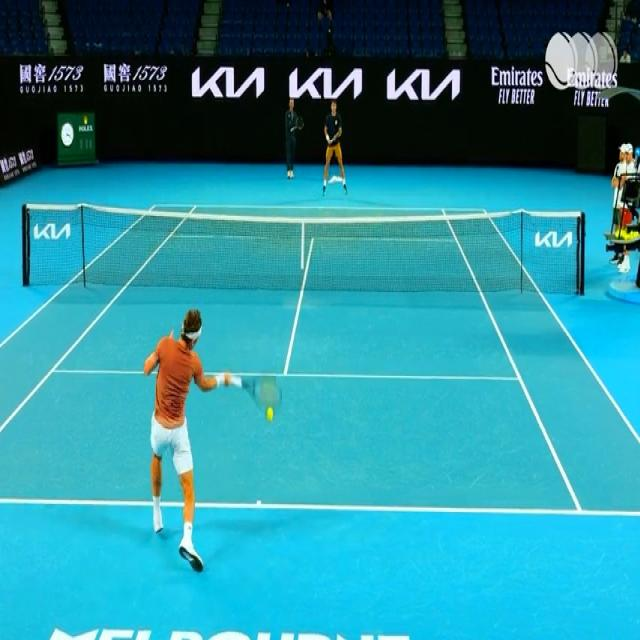forehand-stroke: (147, 315, 282, 573)
